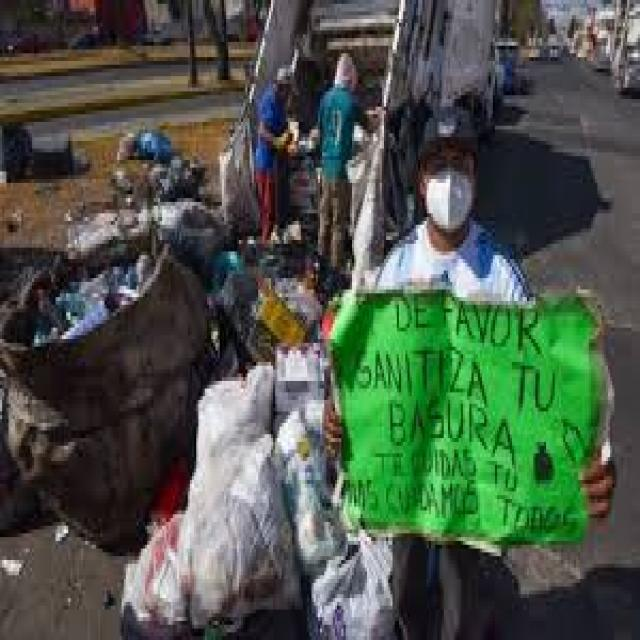garbage: (0, 125, 383, 640)
